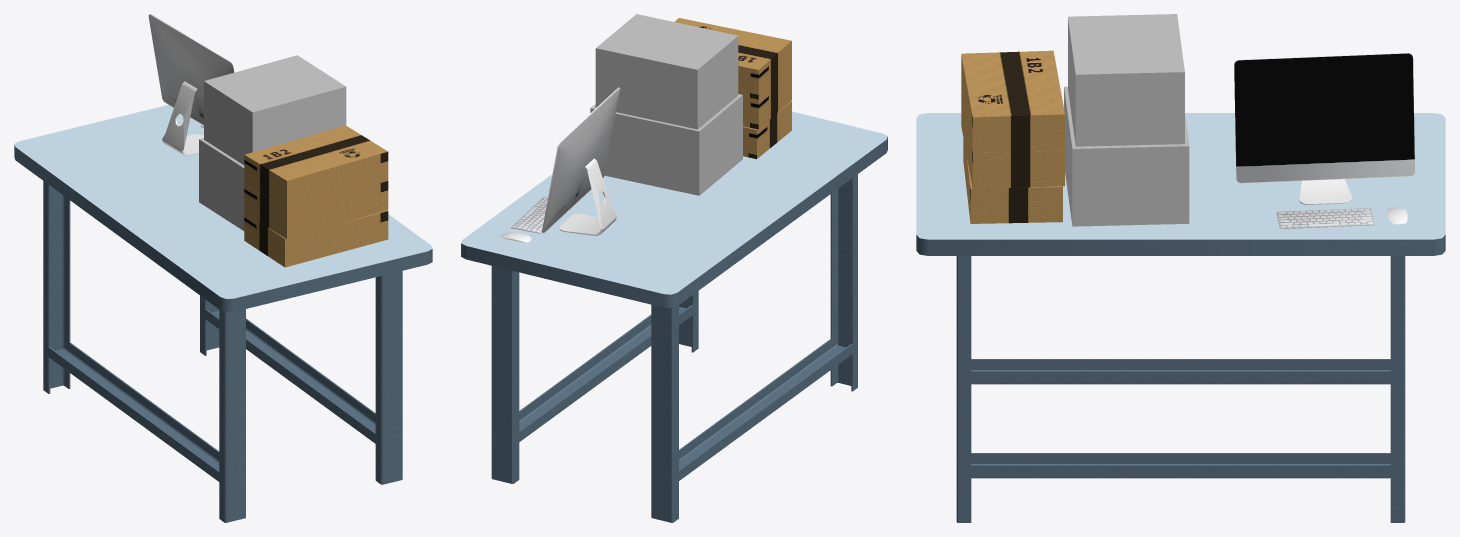
The model's file is aws_robomaker_warehouse_DeskC_01_visual.DAE.
3 renders of one model, left to right at view 1: azimuth 30°, elevation 25°; view 2: azimuth 150°, elevation 25°; view 3: azimuth 270°, elevation 25°, orthographic. The views are drawn at different scales.
Parts seen in each view (by area): view 1: aws_robomaker_warehouse_DeskC_01_visual; view 2: aws_robomaker_warehouse_DeskC_01_visual; view 3: aws_robomaker_warehouse_DeskC_01_visual.
Boxes of the visible parts, left/top/right/bottom form: aws_robomaker_warehouse_DeskC_01_visual: left=14, top=14, right=432, bottom=522; aws_robomaker_warehouse_DeskC_01_visual: left=461, top=14, right=887, bottom=522; aws_robomaker_warehouse_DeskC_01_visual: left=916, top=14, right=1445, bottom=522.
Size of the model in its own units: 88.19 by 156 by 144.
